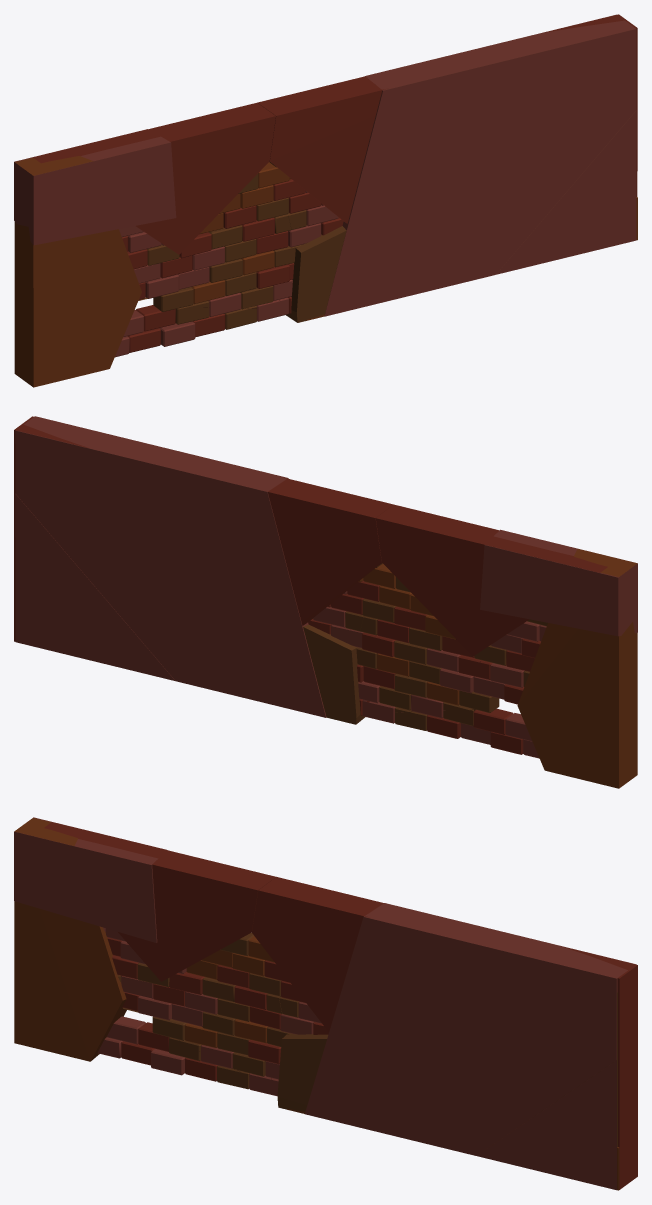
File: explode.glb
3 renders of one model, top to bottom at view 1: azimuth 30°, elevation 25°; view 2: azimuth 150°, elevation 25°; view 3: azimuth 330°, elevation 25°, orthographic.
Parts seen in each view (by area): view 1: Cube_M_Bricks_Var_2_0_cell.003, Cube_M_Bricks_Var_1_0_cell.002, Cube_M_Bricks_Var_3_0_cell.004, Cube_M_Bricks_Var_2_0_cell, Cube_M_Bricks_Var_3_0_cell.001, Cube_M_Bricks_Var_2_0_cell.004, Cube_M_Bricks_Var_4_0_cell.004, Cube_M_Bricks_Var_3_0_cell.003, Cube_M_Bricks_Var_2_0_cell.019, Cube_M_Bricks_Var_4_0_cell.015, Cube_M_Bricks_Var_3_0_cell.012, Cube_M_Bricks_Var_2_0_cell.015 (+21 smaller); view 2: Cube_M_Bricks_Var_2_0_cell.003, Cube_M_Bricks_Var_1_0_cell.002, Cube_M_Bricks_Var_3_0_cell.004, Cube_M_Bricks_Var_2_0_cell.004, Cube_M_Bricks_Var_3_0_cell.001, Cube_M_Bricks_Var_2_0_cell, Cube_M_Bricks_Var_4_0_cell.004, Cube_M_Bricks_Var_3_0_cell.003, Cube_M_Bricks_Var_3_0_cell.012, Cube_M_Bricks_Var_4_0_cell.015, Cube_M_Bricks_Var_2_0_cell.013, Cube_M_Bricks_Var_2_0_cell.016 (+19 smaller); view 3: Cube_M_Bricks_Var_2_0_cell.003, Cube_M_Bricks_Var_1_0_cell.002, Cube_M_Bricks_Var_3_0_cell.004, Cube_M_Bricks_Var_2_0_cell, Cube_M_Bricks_Var_3_0_cell.001, Cube_M_Bricks_Var_2_0_cell.004, Cube_M_Bricks_Var_3_0_cell.003, Cube_M_Bricks_Var_4_0_cell.004, Cube_M_Bricks_Var_2_0_cell.020, Cube_M_Bricks_Var_2_0_cell.019, Cube_M_Bricks_Var_2_0_cell.015, Cube_M_Bricks_Var_3_0_cell.006 (+19 smaller).
Boxes of the visible parts, x1,y1,x2,y2 form: Cube_M_Bricks_Var_2_0_cell.003: (324, 14, 636, 316); Cube_M_Bricks_Var_1_0_cell.002: (14, 156, 141, 387); Cube_M_Bricks_Var_3_0_cell.004: (33, 103, 275, 258); Cube_M_Bricks_Var_2_0_cell: (14, 129, 176, 245); Cube_M_Bricks_Var_3_0_cell.001: (257, 76, 388, 235); Cube_M_Bricks_Var_2_0_cell.004: (496, 110, 636, 274); Cube_M_Bricks_Var_4_0_cell.004: (286, 226, 346, 322); Cube_M_Bricks_Var_3_0_cell.003: (543, 14, 637, 196); Cube_M_Bricks_Var_2_0_cell.019: (159, 321, 195, 346); Cube_M_Bricks_Var_4_0_cell.015: (153, 287, 193, 311); Cube_M_Bricks_Var_3_0_cell.012: (136, 305, 175, 331); Cube_M_Bricks_Var_2_0_cell.015: (145, 274, 179, 298); Cube_M_Bricks_Var_2_0_cell.003: (15, 416, 326, 717); Cube_M_Bricks_Var_1_0_cell.002: (517, 548, 637, 788); Cube_M_Bricks_Var_3_0_cell.004: (375, 504, 607, 657); Cube_M_Bricks_Var_2_0_cell.004: (15, 494, 175, 680); Cube_M_Bricks_Var_3_0_cell.001: (268, 477, 393, 634); Cube_M_Bricks_Var_2_0_cell: (480, 529, 637, 636); Cube_M_Bricks_Var_4_0_cell.004: (303, 624, 365, 724); Cube_M_Bricks_Var_3_0_cell.003: (14, 416, 97, 641); Cube_M_Bricks_Var_3_0_cell.012: (473, 708, 513, 734); Cube_M_Bricks_Var_4_0_cell.015: (459, 690, 499, 712); Cube_M_Bricks_Var_2_0_cell.013: (490, 663, 524, 687); Cube_M_Bricks_Var_2_0_cell.016: (440, 668, 473, 693); Cube_M_Bricks_Var_2_0_cell.003: (305, 903, 636, 1155); Cube_M_Bricks_Var_1_0_cell.002: (14, 818, 126, 1061); Cube_M_Bricks_Var_3_0_cell.004: (44, 822, 275, 994); Cube_M_Bricks_Var_2_0_cell: (14, 817, 167, 942); Cube_M_Bricks_Var_3_0_cell.001: (252, 877, 383, 1034); Cube_M_Bricks_Var_2_0_cell.004: (477, 1060, 616, 1190); Cube_M_Bricks_Var_3_0_cell.003: (564, 947, 637, 1189); Cube_M_Bricks_Var_4_0_cell.004: (277, 1034, 328, 1111); Cube_M_Bricks_Var_2_0_cell.020: (107, 1016, 145, 1044); Cube_M_Bricks_Var_2_0_cell.019: (151, 1049, 185, 1075); Cube_M_Bricks_Var_2_0_cell.015: (138, 996, 171, 1020); Cube_M_Bricks_Var_3_0_cell.006: (248, 1039, 281, 1064).
Bounding box in the file's own units: 5.97 × 2 × 0.3362.
